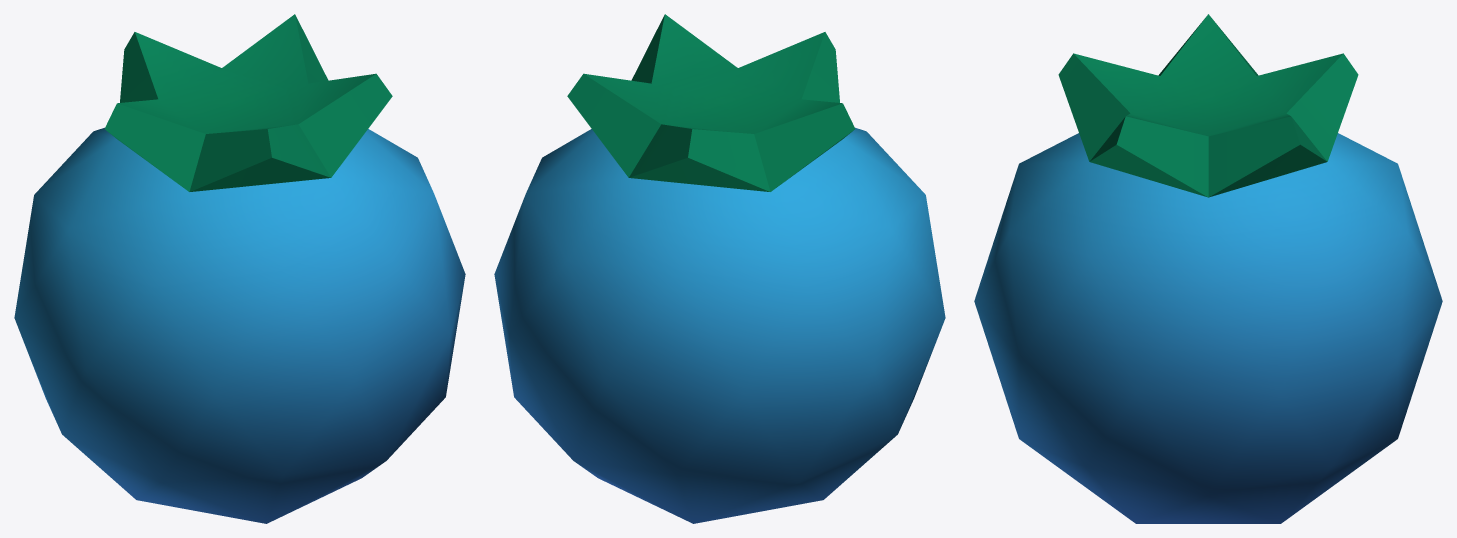
Rendered from berry.glb.
The picture shows the model from 3 angles, left to right: view 1: azimuth 30°, elevation 25°; view 2: azimuth 150°, elevation 25°; view 3: azimuth 270°, elevation 25°; orthographic projection.
Visible parts, largest first — view 1: Food_Berry_Blue; view 2: Food_Berry_Blue; view 3: Food_Berry_Blue.
Boxes of the visible parts, x1,y1,x2,y2 form: Food_Berry_Blue: (14, 14, 465, 523); Food_Berry_Blue: (494, 14, 945, 523); Food_Berry_Blue: (974, 14, 1442, 523).
Bounding box in the file's own units: 0.234 × 0.2578 × 0.2461.
Materials: 1 (1 with a texture image).
